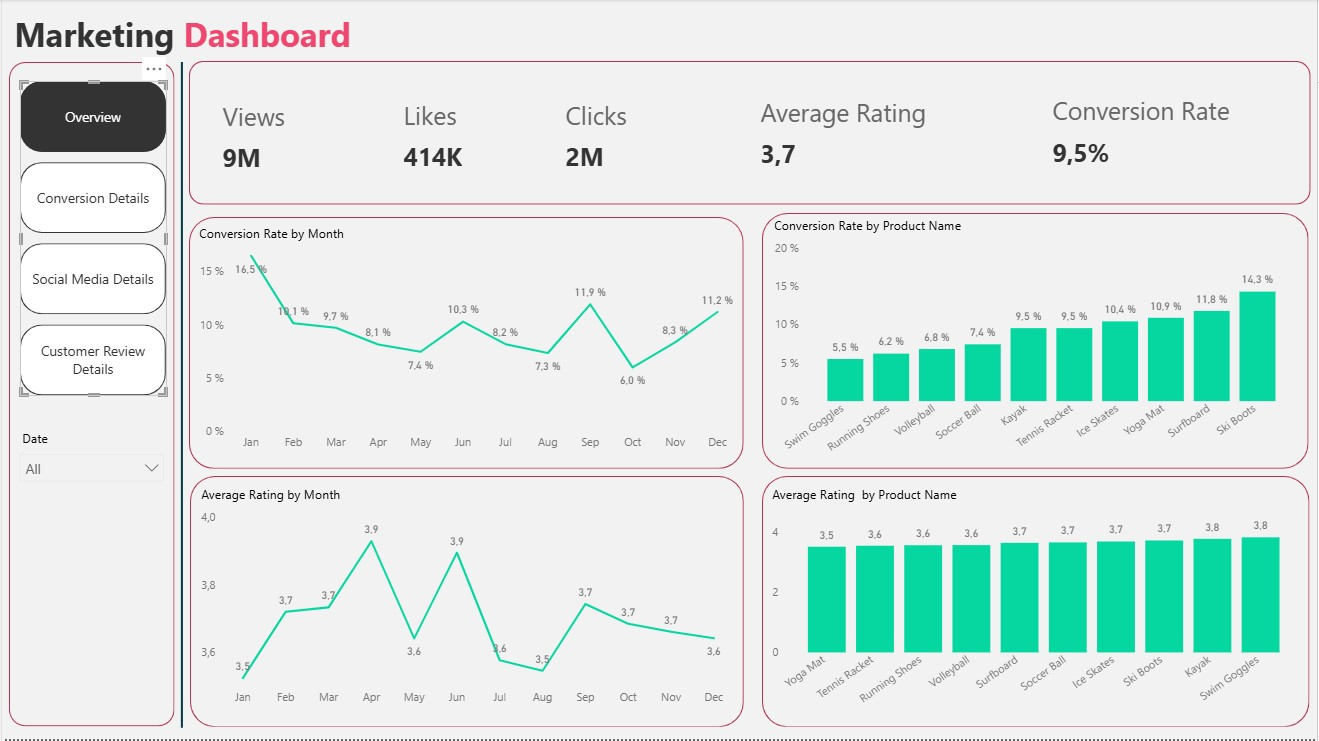

Layout of this report page (visuals, bound fields, positions):
{"tool":"powerbi","page":{"name":"Overview","canvas":[1280,720],"ordinal":0},"visuals":[{"type":"shape","box":[739.7,463.9,532.8,244.5],"z":0},{"type":"shape","box":[740.2,208.1,532,249],"z":1000},{"type":"shape","box":[182.7,463.9,539.1,244.5],"z":2000},{"type":"shape","box":[7.2,61.8,161.2,646.6],"z":3000},{"type":"shape","box":[181.9,212,539.8,245.1],"z":4000},{"type":"shape","box":[181.8,60,1091.6,139.7],"z":5000},{"type":"cardVisual","fields":{"Data":["_Calculations.Conversion Rate"]},"box":[1005.7,66.1,215.9,124.5],"z":6000},{"type":"cardVisual","fields":{"Data":["_Calculations.Rating (Average)"]},"box":[721.7,73.9,235.4,112.8],"z":7000},{"type":"lineChart","fields":{"Category":["Calendar.MonthNameShort"],"Y":["_Calculations.Conversion Rate"]},"box":[186.7,219.8,531.1,229.5],"z":8000},{"type":"columnChart","fields":{"Category":["dim_products.ProductName"],"Y":["_Calculations.Conversion Rate"]},"box":[747,212,516.5,241.2],"z":9000},{"type":"lineChart","fields":{"Category":["Calendar.MonthNameShort"],"Y":["_Calculations.Rating (Average)"]},"box":[189,473.7,525.7,223.9],"z":11000},{"type":"columnChart","fields":{"Category":["dim_products.ProductName"],"Y":["_Calculations.Rating (Average)"]},"box":[745,473.7,523.4,224],"z":12000},{"type":"cardVisual","fields":{"Data":["_Calculations.Views"]},"box":[197.4,75.9,157.6,116.7],"z":14000},{"type":"cardVisual","fields":{"Data":["_Calculations.Clicks"]},"box":[531.1,75.9,176,114.8],"z":18000},{"type":"cardVisual","fields":{"Data":["_Calculations.Likes"]},"box":[373.5,75.9,157.6,114.8],"z":19000},{"type":"shape","box":[168.4,61.8,13.4,648.4],"z":20000},{"type":"pageNavigator","box":[17.5,79.8,143,306.4],"z":20001},{"type":"slicer","fields":{"Values":["Calendar.YearMonthShort"]},"box":[6.8,414.3,161.5,59.3],"z":20002},{"type":"textbox","box":[6.8,6.8,366.7,53.5],"z":20003}]}

Visuals, with their boxes in screenshot pixels (x1, y1, x2, y2), scaled from the page's 1280x720 canvas onto the 1319x741 screenshot:
shape: detection(762, 477, 1311, 729)
shape: detection(763, 214, 1311, 470)
shape: detection(188, 477, 744, 729)
shape: detection(7, 64, 174, 729)
shape: detection(187, 218, 744, 470)
shape: detection(187, 62, 1312, 206)
cardVisual - _Calculations.Conversion Rate: detection(1036, 68, 1259, 196)
cardVisual - _Calculations.Rating (Average): detection(744, 76, 986, 192)
lineChart - Calendar.MonthNameShort x _Calculations.Conversion Rate: detection(192, 226, 740, 462)
columnChart - dim_products.ProductName x _Calculations.Conversion Rate: detection(770, 218, 1302, 466)
lineChart - Calendar.MonthNameShort x _Calculations.Rating (Average): detection(195, 488, 736, 718)
columnChart - dim_products.ProductName x _Calculations.Rating (Average): detection(768, 488, 1307, 718)
cardVisual - _Calculations.Views: detection(203, 78, 366, 198)
cardVisual - _Calculations.Clicks: detection(547, 78, 729, 196)
cardVisual - _Calculations.Likes: detection(385, 78, 547, 196)
shape: detection(174, 64, 187, 731)
pageNavigator: detection(18, 82, 165, 397)
slicer - Calendar.YearMonthShort: detection(7, 426, 173, 487)
textbox: detection(7, 7, 385, 62)
